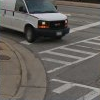crosswalk: (41, 36, 99, 73), (50, 77, 100, 100)
